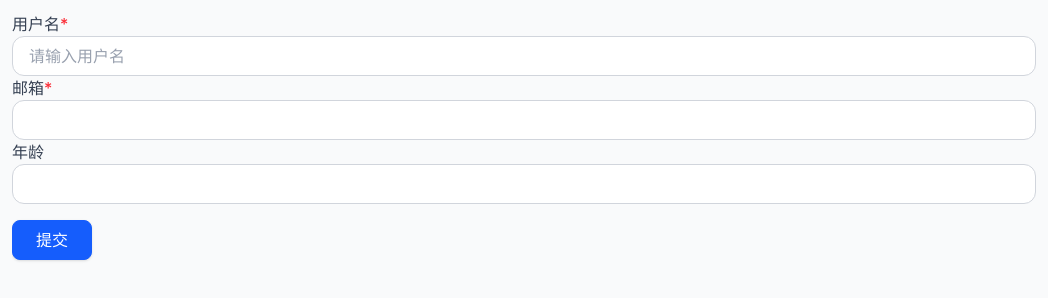
it: Form Component › 表单验证测试 › 应该显示必填字段错误
The image size is (1048, 298).
# 聚焦然后失焦触发验证
Click the field labelled "用户名*": (524, 56) [12,36,1036,76]
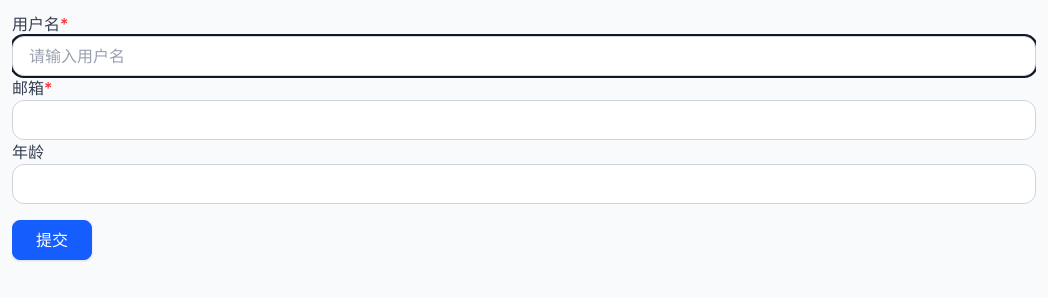
Press Tab
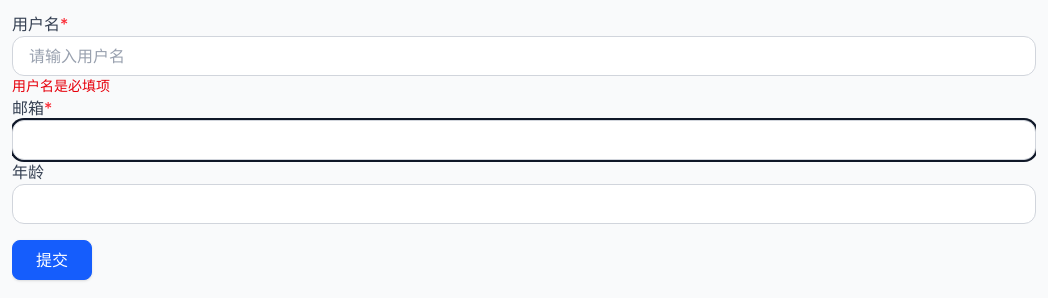
Expected: the text "用户名是必填项" is shown, [12,77,110,94]
